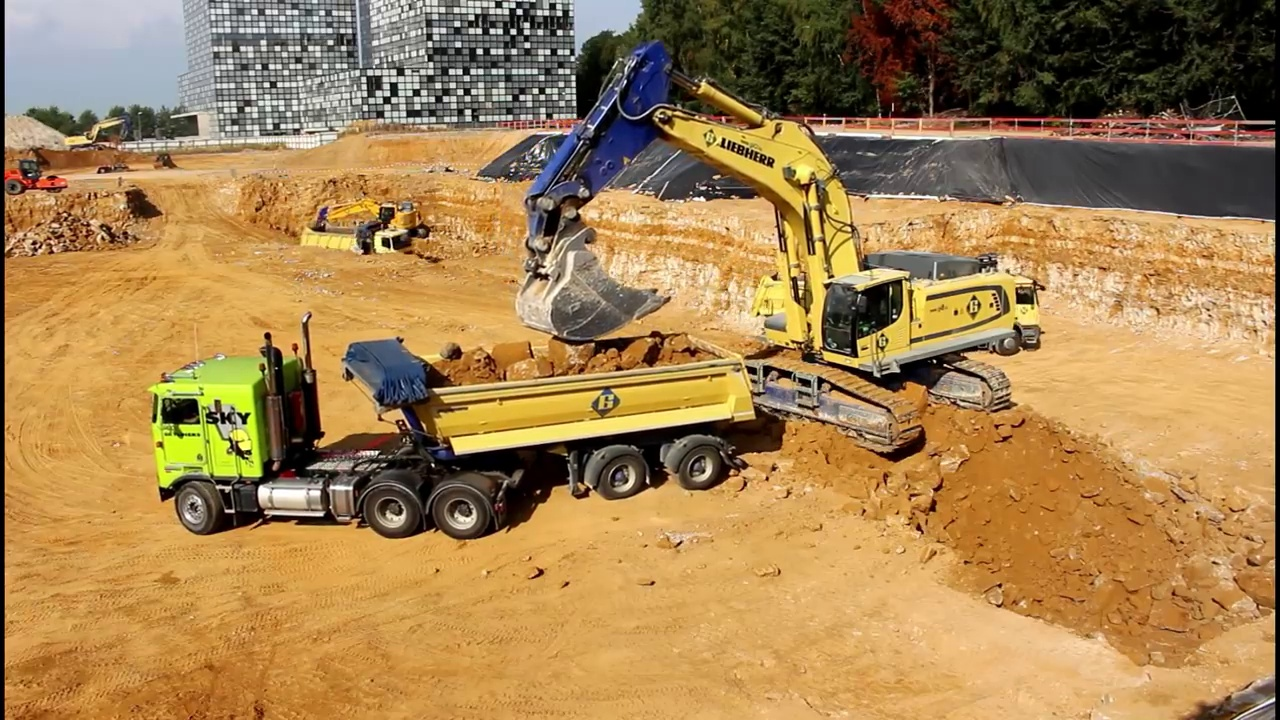compactor: (6, 157, 71, 198)
excavator: (511, 28, 1016, 458), (295, 195, 432, 248), (63, 113, 135, 162)
truck: (142, 307, 759, 544), (757, 244, 1047, 365), (302, 219, 412, 276)
